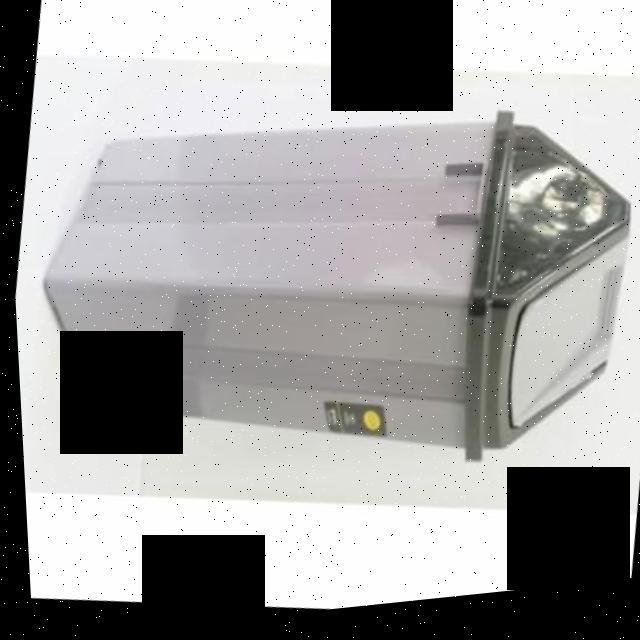bin: (4, 38, 640, 542)
